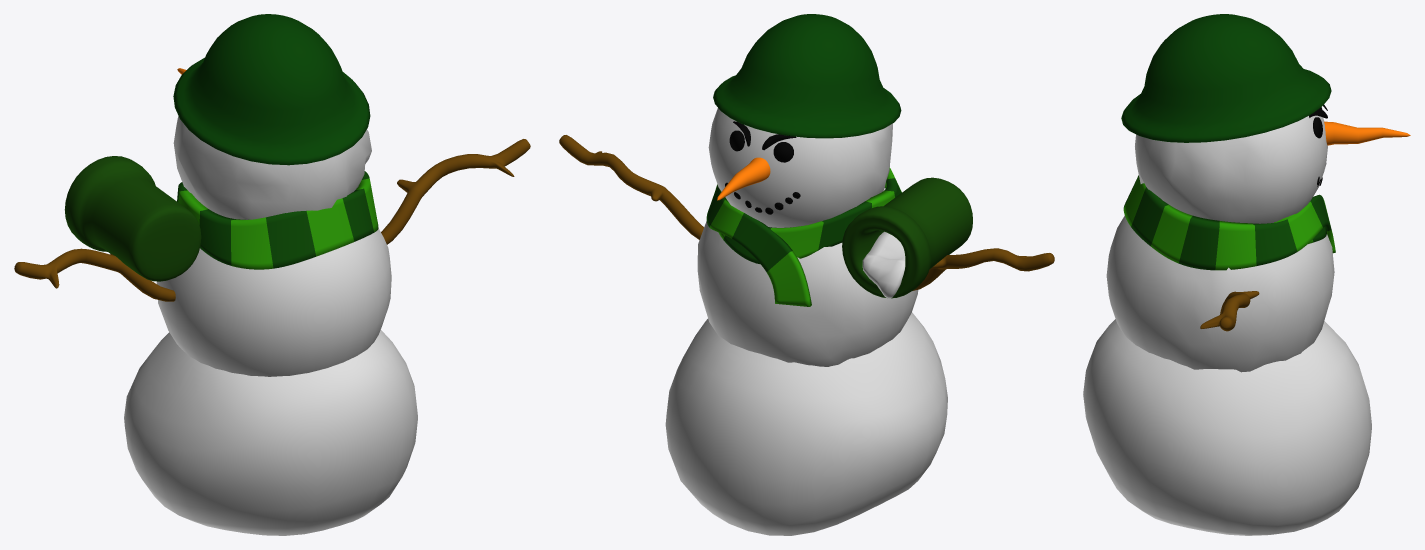
File: MunecoMilitar.fbx
The picture shows the model from 3 angles, left to right: view 1: azimuth 30°, elevation 25°; view 2: azimuth 150°, elevation 25°; view 3: azimuth 270°, elevation 25°; orthographic projection. The views are drawn at different scales.
Visible parts, largest first — view 1: Militar; view 2: Militar; view 3: Militar.
Boxes of the visible parts, x1,y1,x2,y2 form: Militar: (14,14,530,535); Militar: (559,14,1054,535); Militar: (1083,14,1410,535).
Size of the model in its own units: 362 by 330 by 204.
